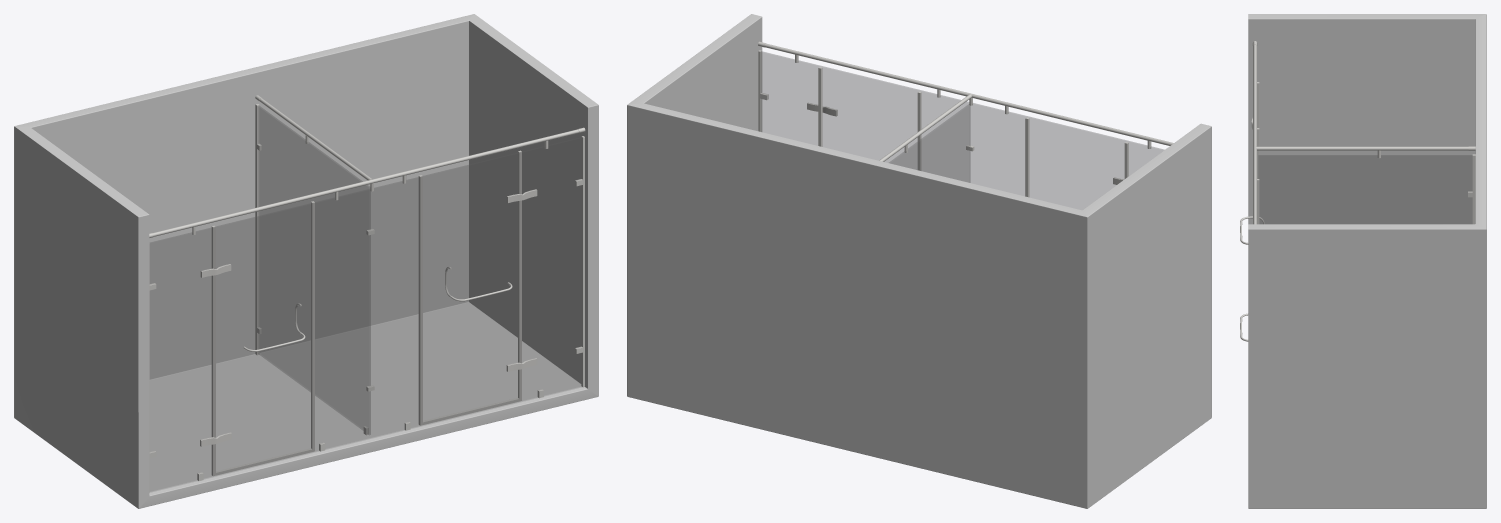
The model's file is Shower_enclosures_011(Nickel.).gltf.
3 views of the same model, side by side, from view 1: azimuth 30°, elevation 25°; view 2: azimuth 150°, elevation 25°; view 3: azimuth 270°, elevation 25° (orthographic). The views are drawn at different scales.
Visible parts, largest first — view 1: Shower_enclosures_011.007; view 2: Shower_enclosures_011.007; view 3: Shower_enclosures_011.007.
Part boxes in pixels (box(x1,y1,x2,y2)): Shower_enclosures_011.007: box(14, 14, 598, 508); Shower_enclosures_011.007: box(627, 14, 1211, 508); Shower_enclosures_011.007: box(1240, 14, 1486, 508).
Size of the model in its own units: 3.31 by 2 by 1.6.
2 materials, 2 textured.
